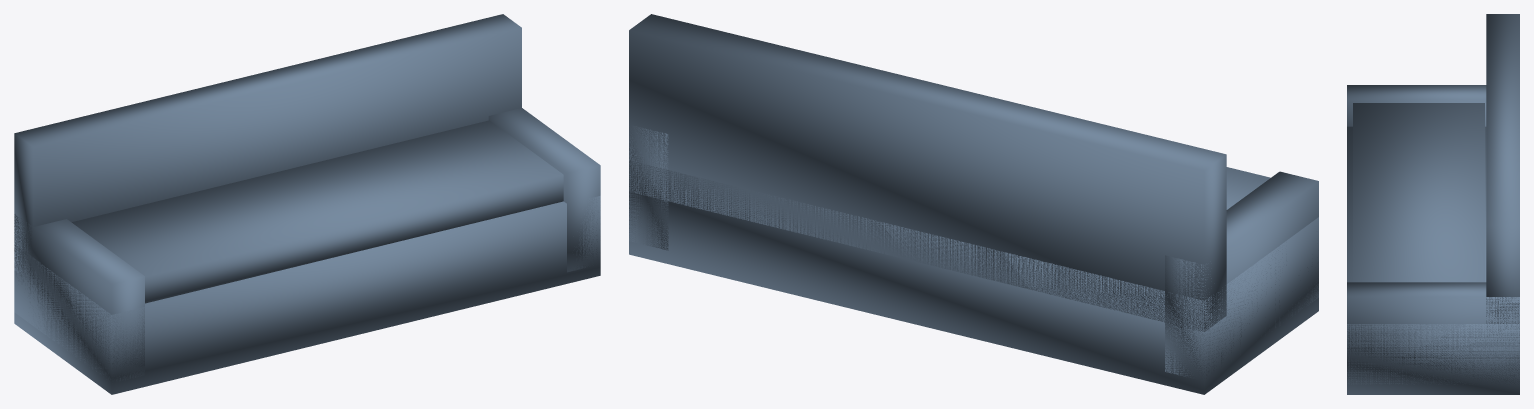
Rendered from sofa__squat.glb.
The picture shows the model from 3 angles, left to right: view 1: azimuth 30°, elevation 25°; view 2: azimuth 150°, elevation 25°; view 3: azimuth 270°, elevation 25°; orthographic projection. The views are drawn at different scales.
Visible parts, largest first — view 1: world; view 2: world; view 3: world.
Boxes of the visible parts, box(x1,y1,x2,y2) form: world: box(14, 14, 600, 394); world: box(629, 14, 1318, 394); world: box(1347, 14, 1519, 394).
Size of the model in its own units: 2.25 by 0.8652 by 0.7776.
